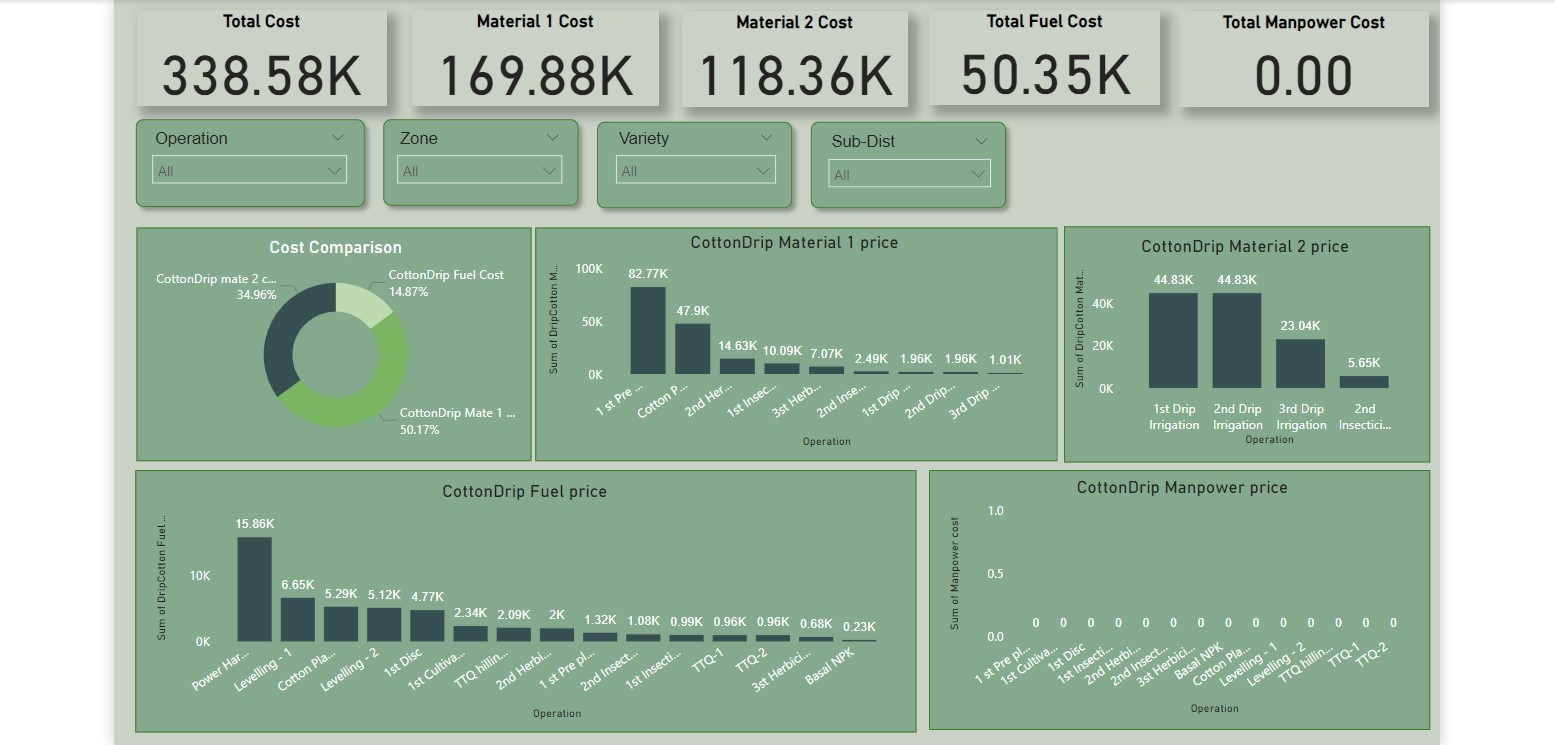

What the dashboard file says about the page in this screenshot:
{"tool":"powerbi","page":{"name":"CottonDrip","canvas":[1280,720],"ordinal":2},"visuals":[{"type":"card","title":"Total Fuel Cost","fields":{"Values":["DripCottonCosting Fuel Cost.CottonDrip Fuel Cost"]},"box":[786.6,9.7,223.2,91.7],"z":0},{"type":"card","title":"Total Manpower Cost","fields":{"Values":["DripCottonCosting ManPower Cost.CottonDrip Manpower Cost"]},"box":[1027.9,10.9,241.3,91.7],"z":1000},{"type":"card","title":"Material 1 Cost","fields":{"Values":["DripCottonCosting Mate 1.CottonDrip Mate 1 Cost"]},"box":[287.1,9.7,238.9,92.9],"z":2000},{"type":"card","title":"Material 2 Cost","fields":{"Values":["DripCottonCosting Mate 2.CottonDrip mate 2 cost"]},"box":[547.7,10.9,218.4,91.7],"z":3000},{"type":"card","title":"Total Cost","fields":{"Values":["DripCottonCosting.Total CottonDrip Price"]},"box":[21.7,9.7,241.3,92.9],"z":4000},{"type":"shape","box":[12.1,106.2,238.9,102.5],"z":4000,"group":"g2"},{"type":"group","id":"g1","title":"Group 2","box":[21.7,219.6,381.2,225.6],"z":5000},{"type":"group","id":"g2","title":"Group 5","box":[12.1,106.2,238.9,102.5],"z":6000},{"type":"group","id":"g3","title":"Group 6","box":[250.9,106.2,206.3,101.3],"z":7000},{"type":"group","id":"g4","title":"Group 7","box":[457.2,108.6,206.3,101.3],"z":8000},{"type":"group","id":"g5","title":"Group 8","box":[663.5,108.6,206.3,101.3],"z":9000},{"type":"group","id":"g6","title":"Group 1","box":[406.6,219.6,504.3,225.6],"z":10000},{"type":"group","id":"g7","title":"Group 1","box":[917,217.9,353.5,228],"z":11000},{"type":"group","id":"g8","title":"Group 1","box":[20.5,453.6,754,253.4],"z":12000},{"type":"slicer","fields":{"Values":["CottonDripChinese_UnPV_SE.Operation"]},"box":[26.6,119.5,208.7,71.2],"z":13000,"group":"g2"},{"type":"group","id":"g9","title":"Group 1","box":[786.6,453.6,483.8,250.9],"z":13000},{"type":"shape","box":[250.9,106.2,206.3,101.3],"z":14000,"group":"g3"},{"type":"slicer","fields":{"Values":["CottonDripChinese_UnPV_SE.Zone"]},"box":[263,119.5,179.8,71.2],"z":15000,"group":"g3"},{"type":"shape","box":[457.2,108.6,206.3,101.3],"z":16000,"group":"g4"},{"type":"slicer","fields":{"Values":["CottonDripChinese_UnPV_SE.Variety"]},"box":[474.1,119.5,174.9,70],"z":17000,"group":"g4"},{"type":"shape","box":[917,217.9,353.5,228],"z":17000,"group":"g7"},{"type":"shape","box":[21.7,219.6,381.2,225.6],"z":17000,"group":"g11"},{"type":"shape","box":[406.6,219.6,504.3,225.6],"z":17000,"group":"g6"},{"type":"shape","box":[20.5,453.6,754,253.4],"z":17000,"group":"g8"},{"type":"shape","box":[786.6,453.6,483.8,250.9],"z":17000,"group":"g9"},{"type":"clusteredColumnChart","title":"CottonDrip Material 1 price","fields":{"Category":["DripCottonCosting Mate 1.Operation"],"Y":["Sum(DripCottonCosting Mate 1.DripCotton Material 1 cost)"]},"box":[413.9,223.6,486.2,213.8],"z":17500,"group":"g6"},{"type":"clusteredColumnChart","title":"CottonDrip Material 2 price","fields":{"Category":["DripCottonCosting Mate 2.Operation"],"Y":["Sum(DripCottonCosting Mate 2.DripCotton Material 2 Cost)"]},"box":[921.8,226.4,340.2,208.7],"z":17500,"group":"g7"},{"type":"clusteredColumnChart","title":"CottonDrip Manpower  price","fields":{"Category":["DripCottonCosting ManPower Cost.Operation"],"Y":["Sum(DripCottonCosting ManPower Cost.Manpower cost)"]},"box":[800.5,460.1,460.4,235.3],"z":17500,"group":"g9"},{"type":"clusteredColumnChart","title":"CottonDrip Fuel price","fields":{"Category":["DripCottonCosting Fuel Cost.Operation"],"Y":["Sum(DripCottonCosting Fuel Cost.DripCotton Fuel Cost)"]},"box":[34.9,463.4,723.1,236.8],"z":17500,"group":"g8"},{"type":"shape","box":[663.5,108.6,206.3,101.3],"z":18000,"group":"g5"},{"type":"donutChart","title":"Cost Comparison","fields":{"Y":["DripCottonCosting Fuel Cost.CottonDrip Fuel Cost","DripCottonCosting ManPower Cost.CottonDrip Manpower Cost","DripCottonCosting Mate 1.CottonDrip Mate 1 Cost","DripCottonCosting Mate 2.CottonDrip mate 2 cost"]},"box":[33.2,227.6,360.7,210],"z":18000,"group":"g11"},{"type":"group","id":"g10","title":"Group 3","box":[21.7,219.6,381.2,225.6],"z":18002,"group":"g1"},{"type":"group","id":"g11","title":"Group 4","box":[21.7,219.6,381.2,225.6],"z":18002,"group":"g10"},{"type":"slicer","fields":{"Values":["CottonDripChinese_UnPV_SE.Sub-Dist"]},"box":[679.2,123.1,177.3,67.6],"z":19000,"group":"g5"}]}

Visuals, with their boxes on the page's 1280x720 design canvas (x1, y1, x2, y2). These are canvas units, not pixel positions in the 1555x745 screenshot, which may show the page scaled, cropped or inside an application window:
"Total Fuel Cost" card: (787, 10, 1010, 101)
"Total Manpower Cost" card: (1028, 11, 1269, 103)
"Material 1 Cost" card: (287, 10, 526, 103)
"Material 2 Cost" card: (548, 11, 766, 103)
"Total Cost" card: (22, 10, 263, 103)
shape: (12, 106, 251, 209)
"Group 2" group: (22, 220, 403, 445)
"Group 5" group: (12, 106, 251, 209)
"Group 6" group: (251, 106, 457, 208)
"Group 7" group: (457, 109, 664, 210)
"Group 8" group: (664, 109, 870, 210)
"Group 1" group: (407, 220, 911, 445)
"Group 1" group: (917, 218, 1270, 446)
"Group 1" group: (20, 454, 774, 707)
slicer - CottonDripChinese_UnPV_SE.Operation: (27, 120, 235, 191)
"Group 1" group: (787, 454, 1270, 704)
shape: (251, 106, 457, 208)
slicer - CottonDripChinese_UnPV_SE.Zone: (263, 120, 443, 191)
shape: (457, 109, 664, 210)
slicer - CottonDripChinese_UnPV_SE.Variety: (474, 120, 649, 190)
shape: (917, 218, 1270, 446)
shape: (22, 220, 403, 445)
shape: (407, 220, 911, 445)
shape: (20, 454, 774, 707)
shape: (787, 454, 1270, 704)
"CottonDrip Material 1 price" clusteredColumnChart: (414, 224, 900, 437)
"CottonDrip Material 2 price" clusteredColumnChart: (922, 226, 1262, 435)
"CottonDrip Manpower  price" clusteredColumnChart: (800, 460, 1261, 695)
"CottonDrip Fuel price" clusteredColumnChart: (35, 463, 758, 700)
shape: (664, 109, 870, 210)
"Cost Comparison" donutChart: (33, 228, 394, 438)
"Group 3" group: (22, 220, 403, 445)
"Group 4" group: (22, 220, 403, 445)
slicer - CottonDripChinese_UnPV_SE.Sub-Dist: (679, 123, 856, 191)
